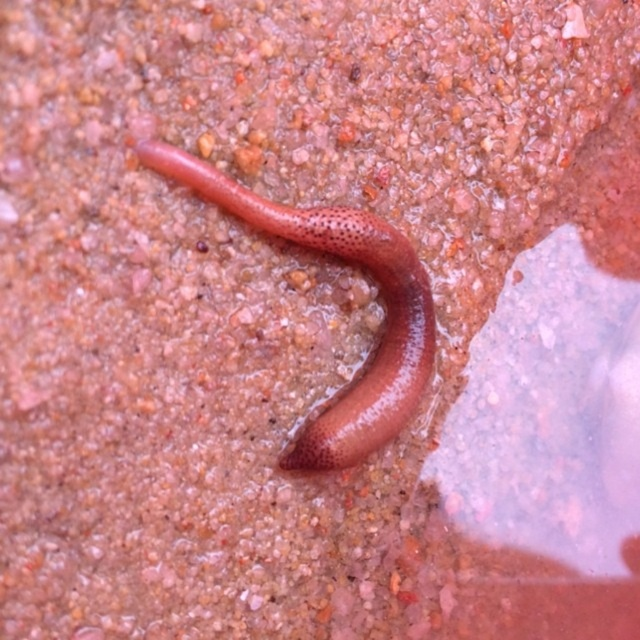Worm: (135, 138, 436, 470)
